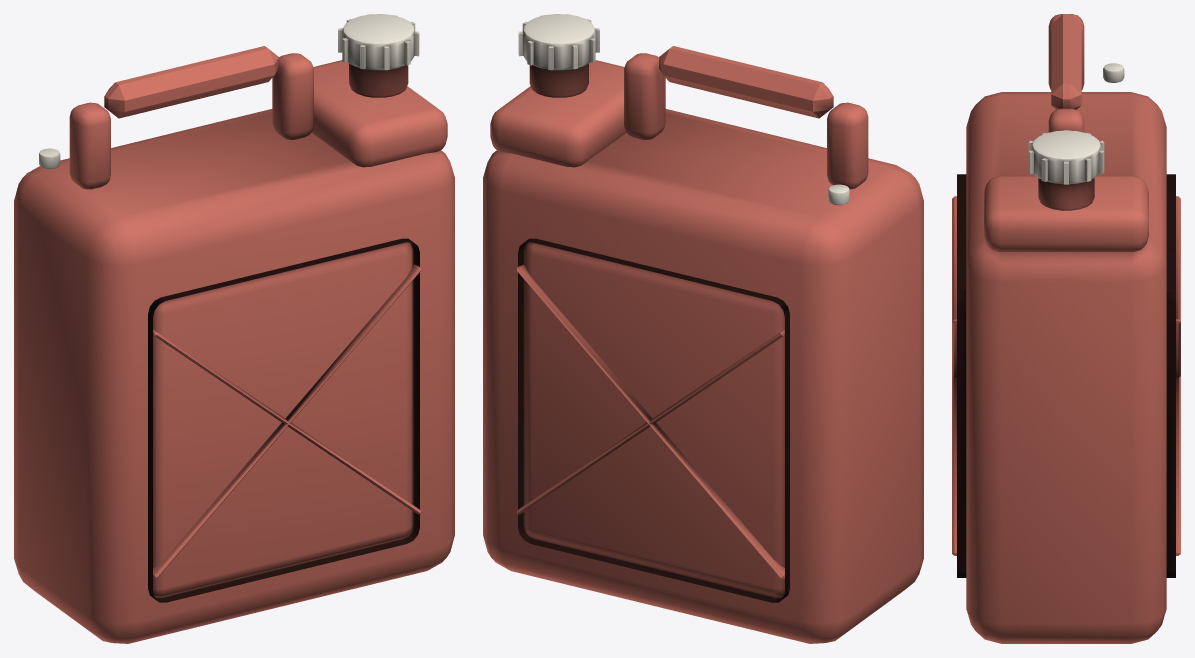
File: nd_water_can.glb
The picture shows the model from 3 angles, left to right: view 1: azimuth 30°, elevation 25°; view 2: azimuth 150°, elevation 25°; view 3: azimuth 270°, elevation 25°; orthographic projection. The views are drawn at different scales.
Parts seen in each view (by area): view 1: PART; view 2: PART; view 3: PART.
Boxes of the visible parts, <box> form: PART: <box>14,14,454,643</box>; PART: <box>483,14,923,643</box>; PART: <box>952,14,1180,643</box>.
Size of the model in its own units: 0.34 by 0.47 by 0.194.
